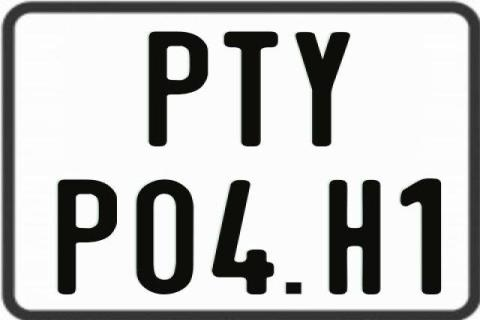0: (212, 180, 278, 294), (134, 177, 192, 293), (398, 177, 439, 297)
H: (326, 178, 381, 294)
P: (55, 178, 120, 298), (147, 31, 211, 151)
T: (223, 30, 282, 148)
Y: (294, 30, 350, 148)
